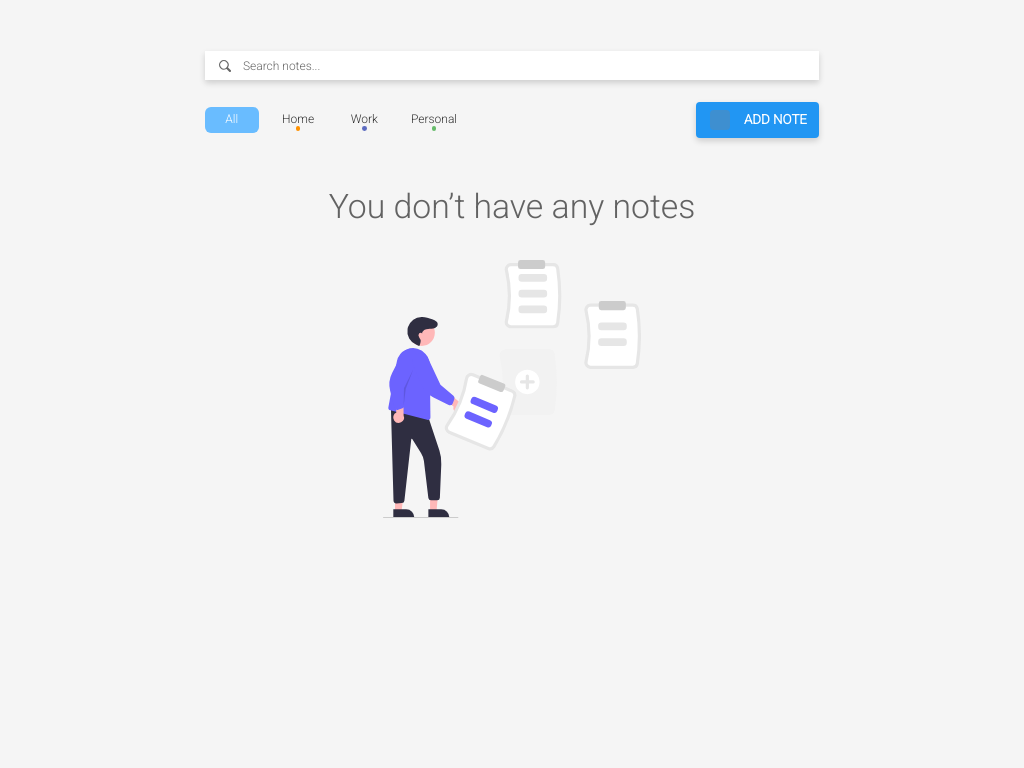
Test: Note app UI › Should add a new note
Click the button with test id "btn-add" at (758, 120), box 696,102 -> 820,138
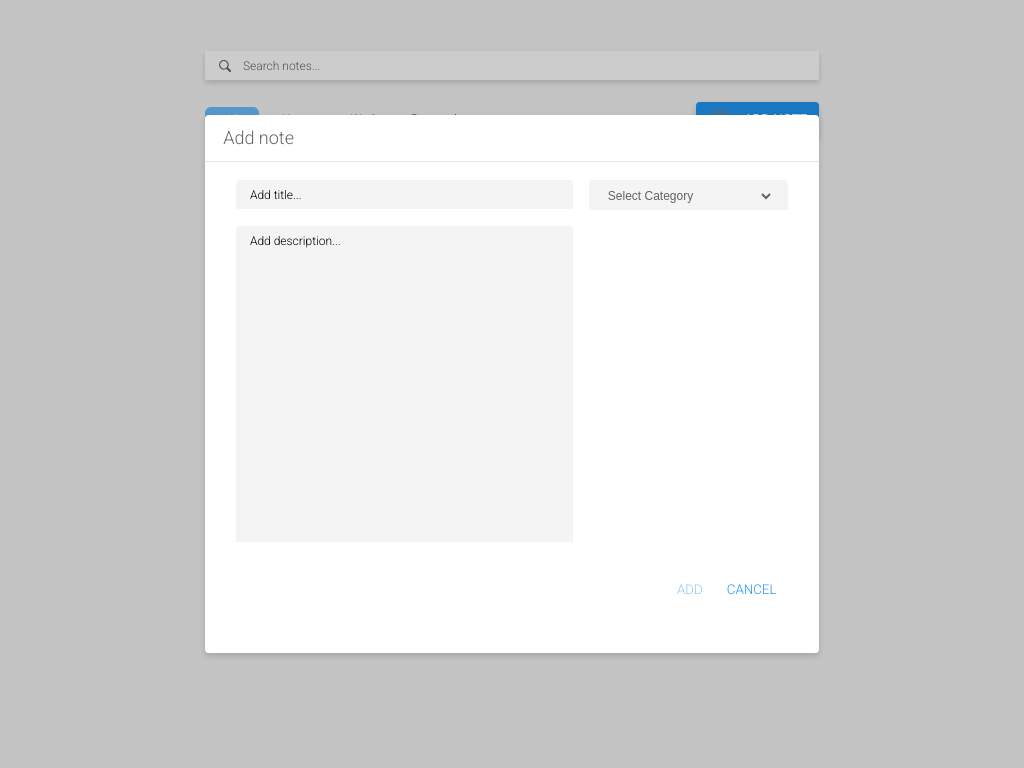
Type "Pet shop" into the field with test id "add-title" at (405, 195), box 250,188 -> 559,202
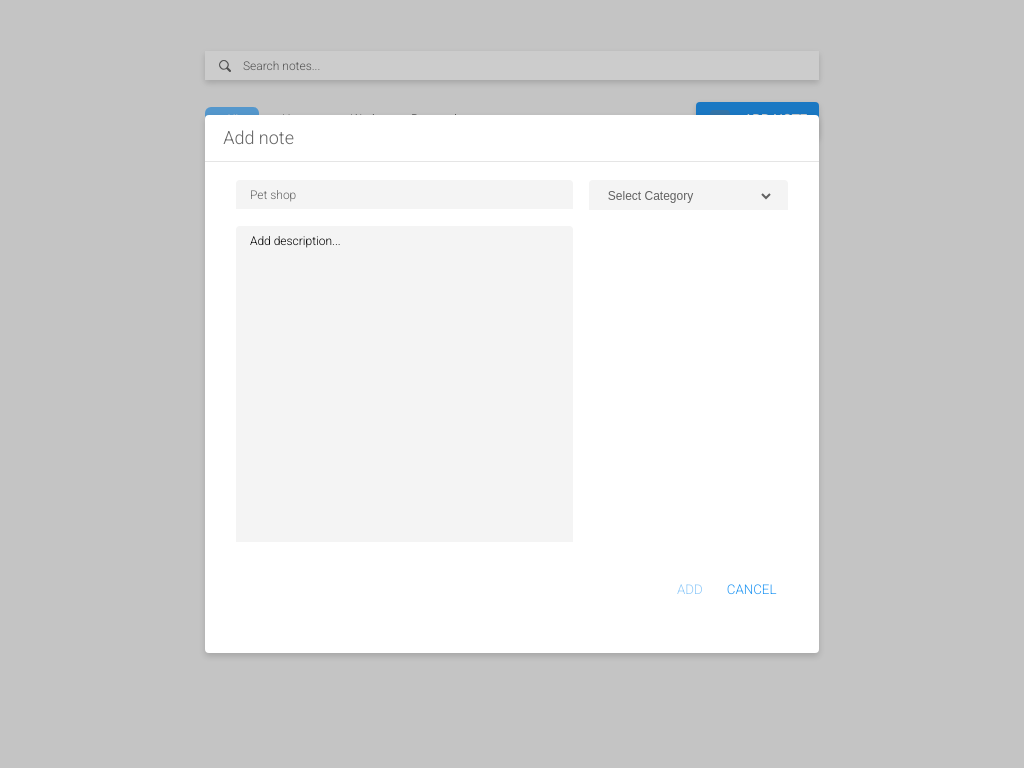
Type "Buscar o cachorro 15:00hrs" into the text box with test id "add-description" at (405, 385), box 250,234 -> 559,535
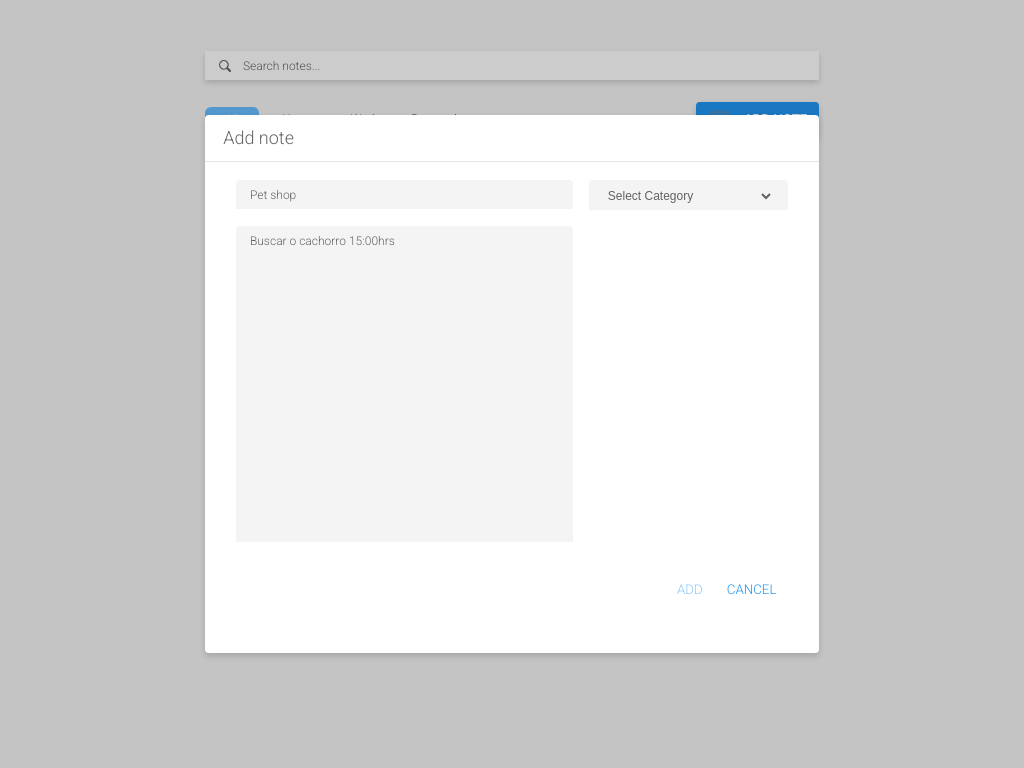
Select "Home" in the dropdown with test id "select-category" at (689, 196), box 604,188 -> 774,204
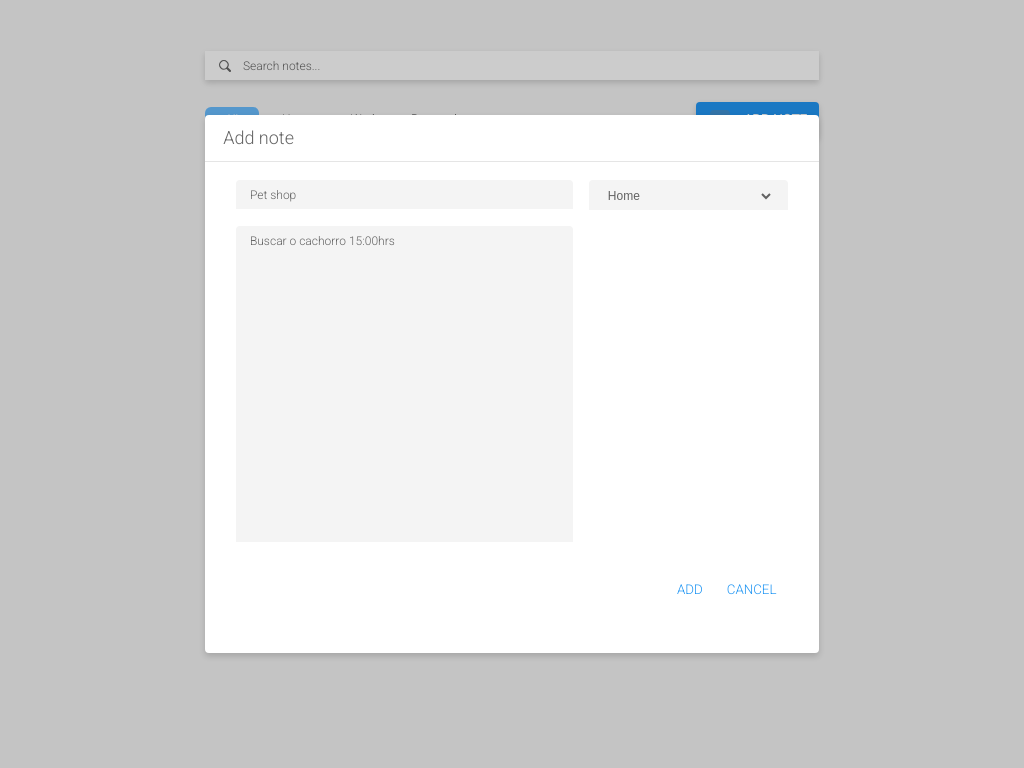
Click the button with test id "btn-submit-note" at (690, 590), box 665,570 -> 715,609
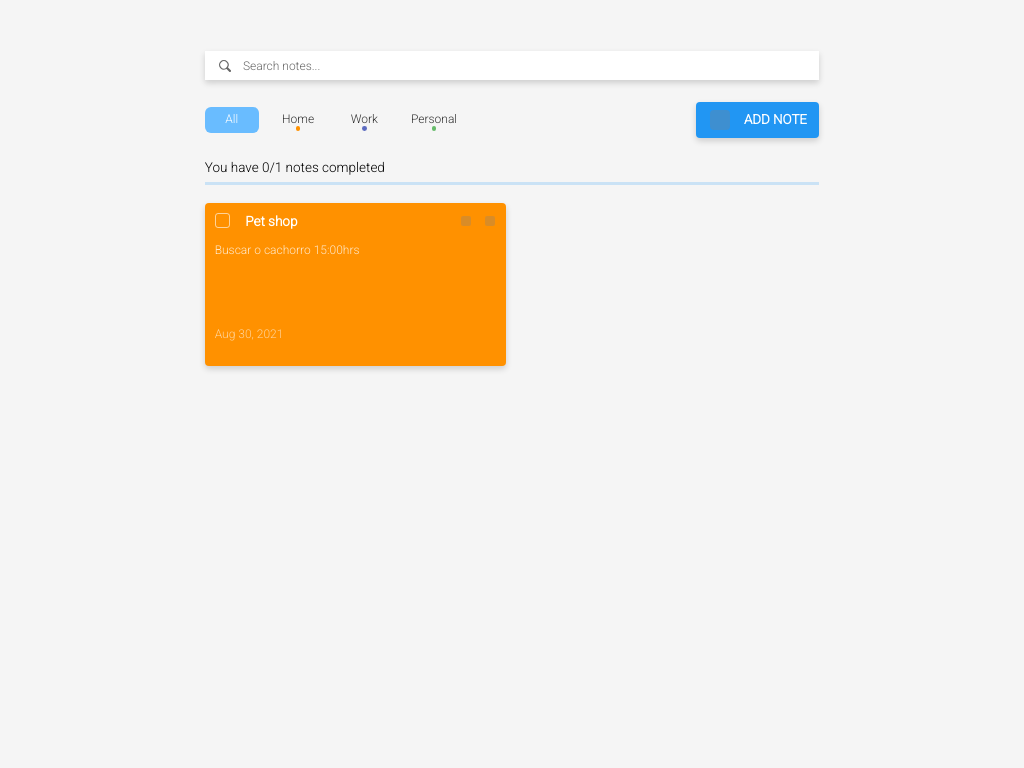
Now the number of elements with test id "card-note" is 1, box 205,203 -> 506,366
